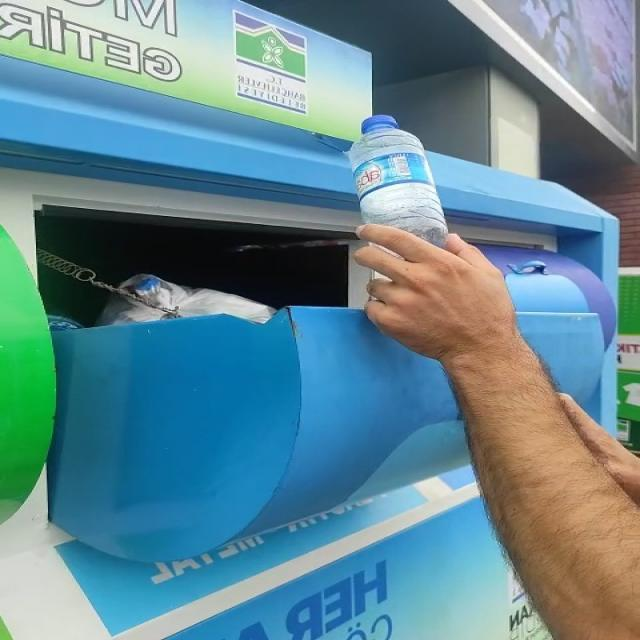Plastic: (348, 115, 448, 244)
